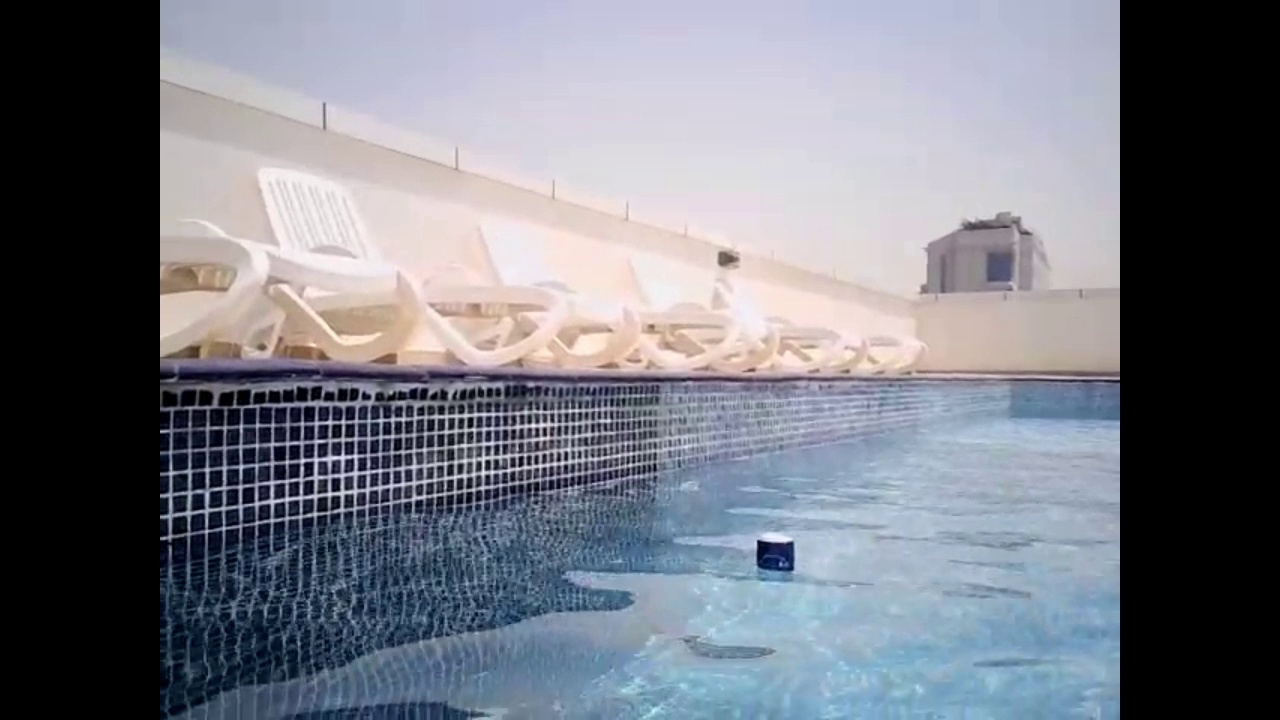debris: (746, 530, 799, 585)
